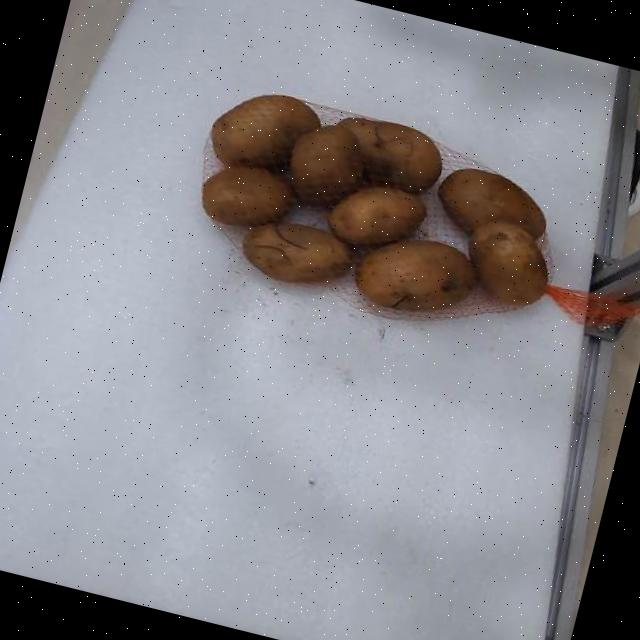potato: (355, 238, 475, 310), (339, 116, 441, 192), (213, 93, 320, 165), (438, 167, 545, 237), (468, 220, 546, 305), (242, 222, 351, 281), (290, 124, 364, 204), (328, 186, 425, 243), (202, 165, 293, 225)
